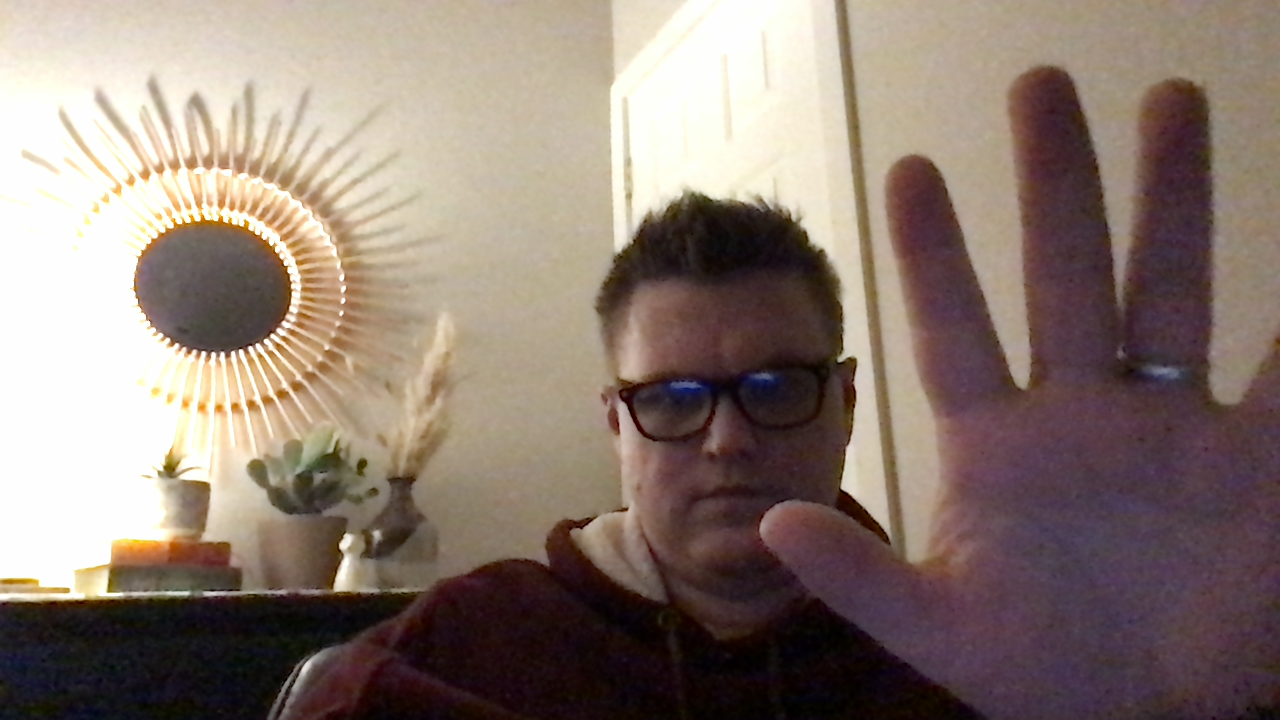hello: (757, 48, 1280, 720)
